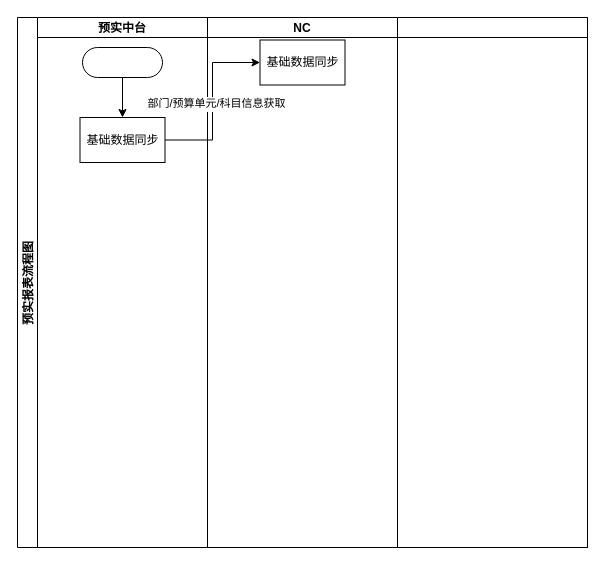
The diagram is 605 pixels wide and 565 high, and some of its shapes have lost their labels. The centre of each missing label's shape, as x and y in pixels:
"OA" belongs at (492,282).
"定时任务" belongs at (122,62).
